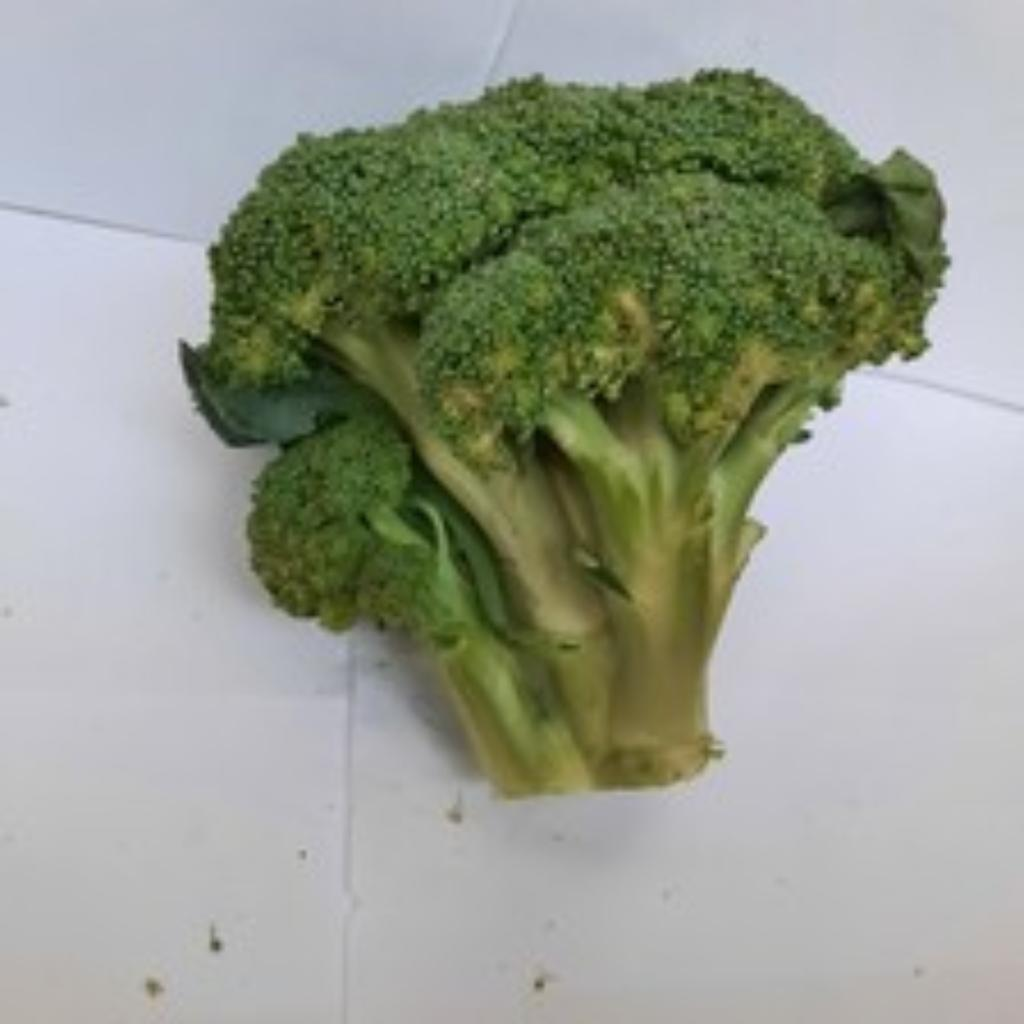Broccoli: (206, 72, 946, 473), (210, 72, 946, 471), (250, 388, 418, 623), (250, 398, 424, 619)
